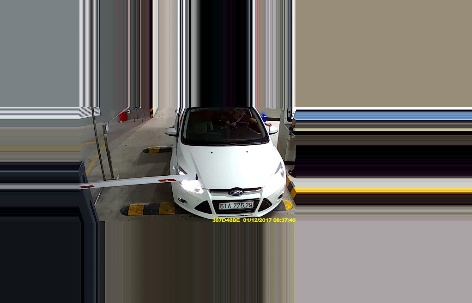plate: (214, 199, 254, 212)
